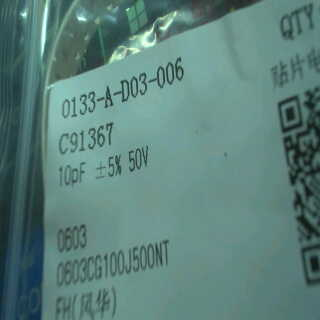10pF: (53, 159, 92, 192)
